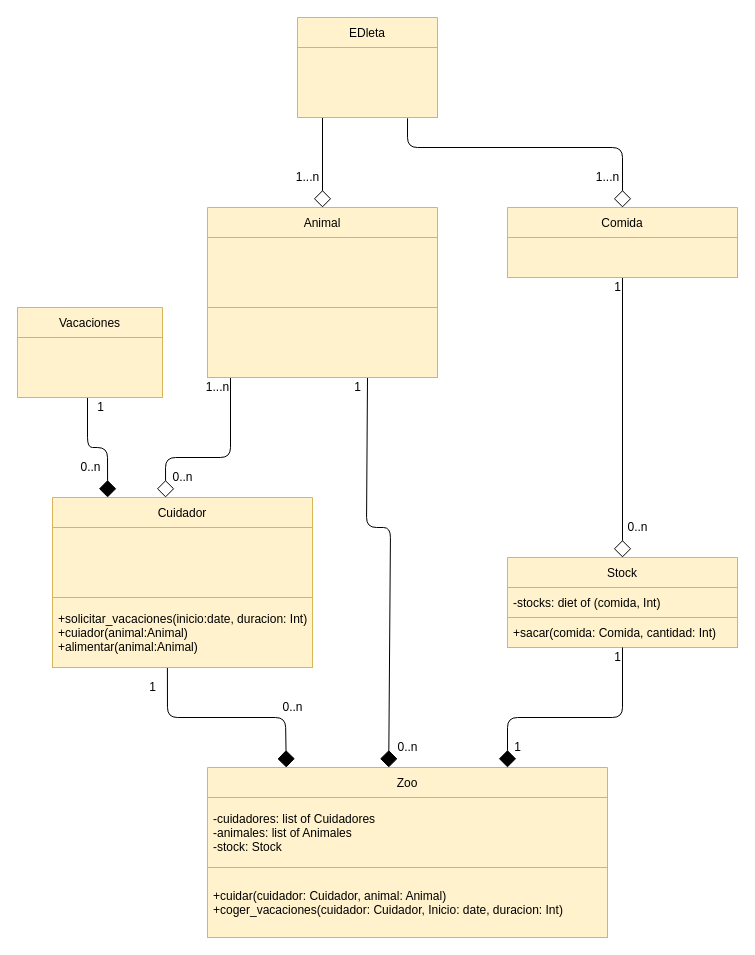
The diagram is 755 pixels wide and 955 high, and some of its shapes have lost their labels. Here are the shapes that lost their labels. From the top down, the centre of each, then its label:
At point (367, 82): "HERBIVORO CARNIVORO INSECTIVORO".
At point (322, 272): "-Id: Int -Dieta: EDleta -especie: String -cuidador_actual: Cuidador".
At point (622, 257): "-dietas: lis of EDleta".
At point (322, 342): "+operacion1(params) returnType -operacion2(params) -operacion3()".
At point (89, 367): "-Inicio: date -duracion: Int -empleado: Cuidador".
At point (182, 562): "-nombre: String -apellido: String -animales: list of Animal".
